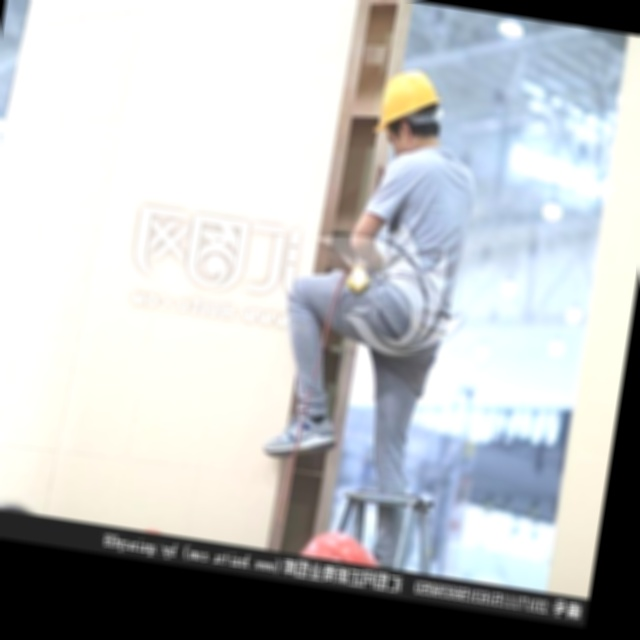Con_Casco: (374, 65, 449, 158)
